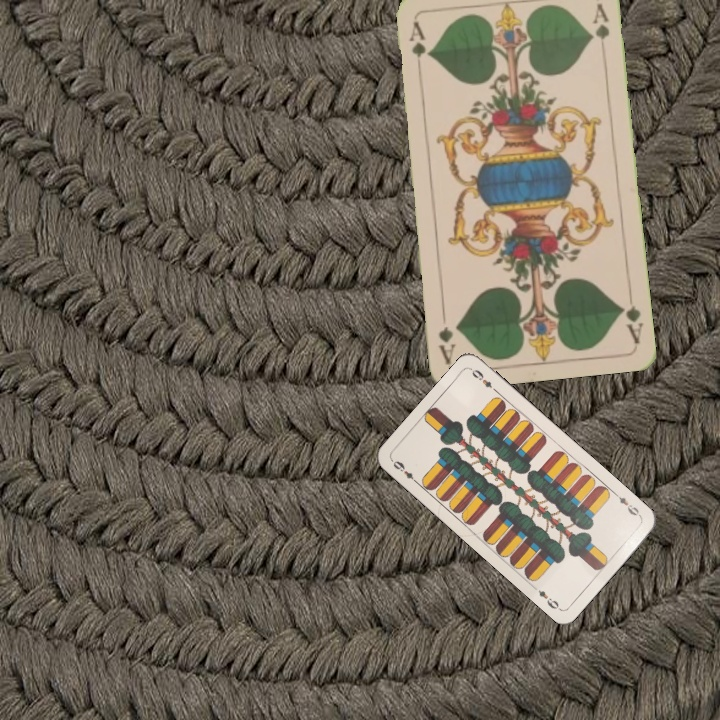E9: (611, 489, 644, 520), (389, 456, 421, 487)
GA: (405, 17, 428, 76), (616, 302, 645, 345)
